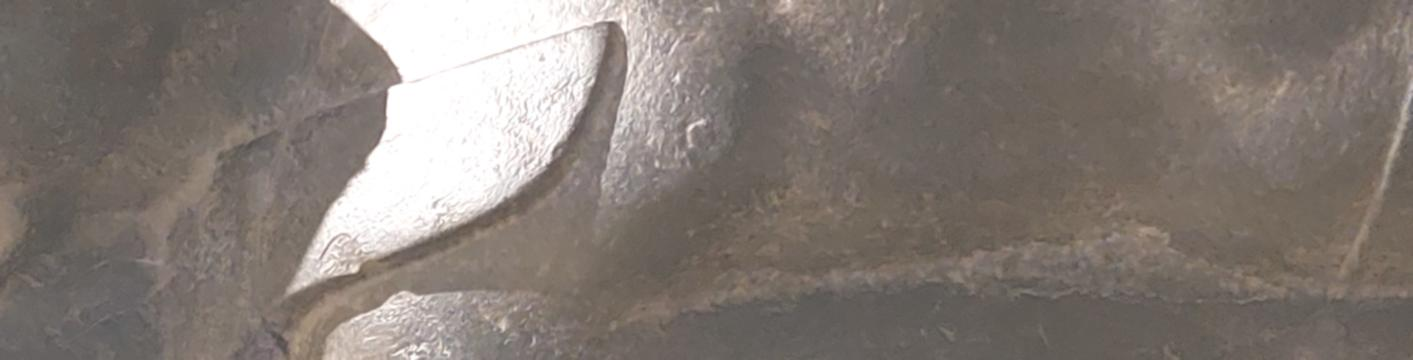RoyalStatues: (0, 0, 411, 360)
